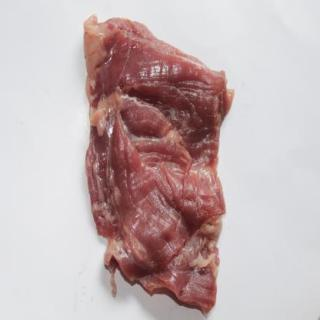Daging Sapi: (85, 13, 235, 315)
